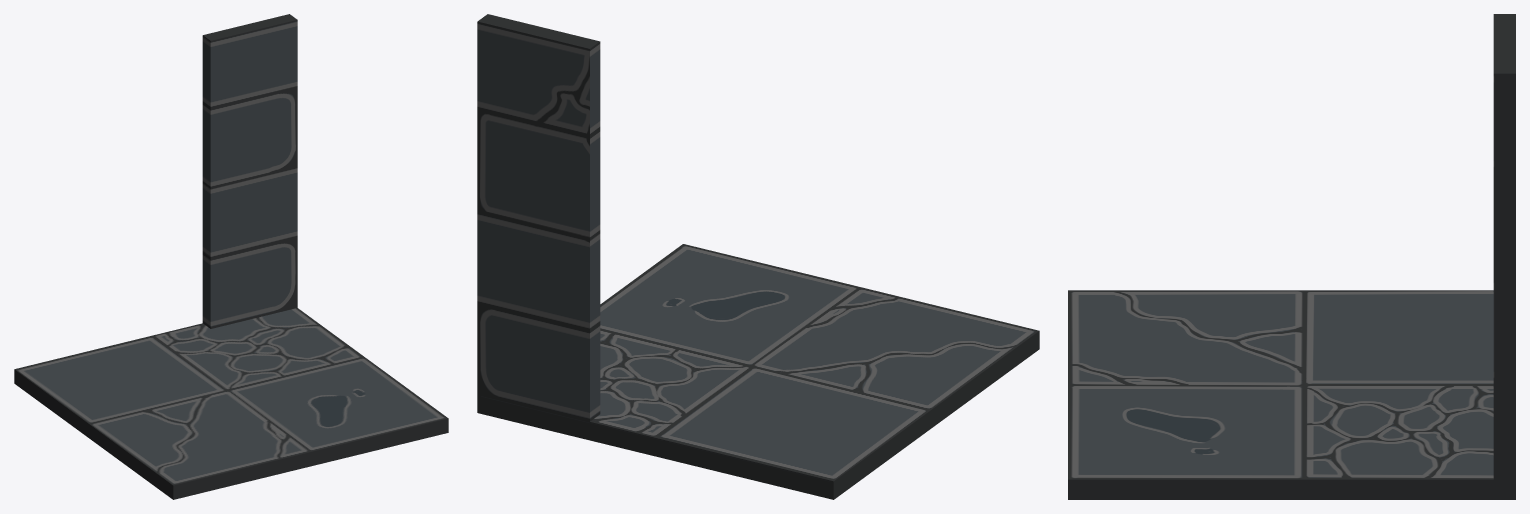
The model's file is Opening-MCURVE-NE_v1.2.fbx.
The picture shows the model from 3 angles, left to right: view 1: azimuth 30°, elevation 25°; view 2: azimuth 150°, elevation 25°; view 3: azimuth 270°, elevation 25°; orthographic projection. The views are drawn at different scales.
Visible parts, largest first — view 1: Opening-MCURV-NE; view 2: Opening-MCURV-NE; view 3: Opening-MCURV-NE.
Part boxes in pixels (x1,y1,x2,y2): Opening-MCURV-NE: [14, 14, 448, 499]; Opening-MCURV-NE: [477, 14, 1039, 499]; Opening-MCURV-NE: [1068, 14, 1515, 499].
Size of the model in its own units: 100 by 100 by 105.
